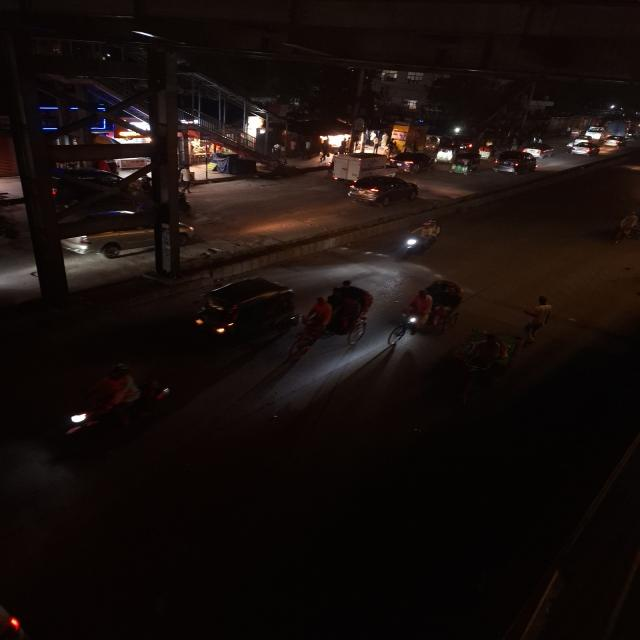car: (345, 174, 421, 206), (490, 150, 539, 174), (519, 140, 556, 158), (564, 140, 604, 156)
cng: (189, 275, 295, 343)
motorcycle: (395, 218, 448, 258)
rickshaw: (452, 292, 552, 398), (284, 279, 376, 361), (385, 275, 466, 350), (452, 328, 525, 394), (611, 209, 640, 245), (389, 151, 432, 173), (447, 153, 480, 176), (433, 146, 456, 162)
truck: (328, 152, 398, 182)
